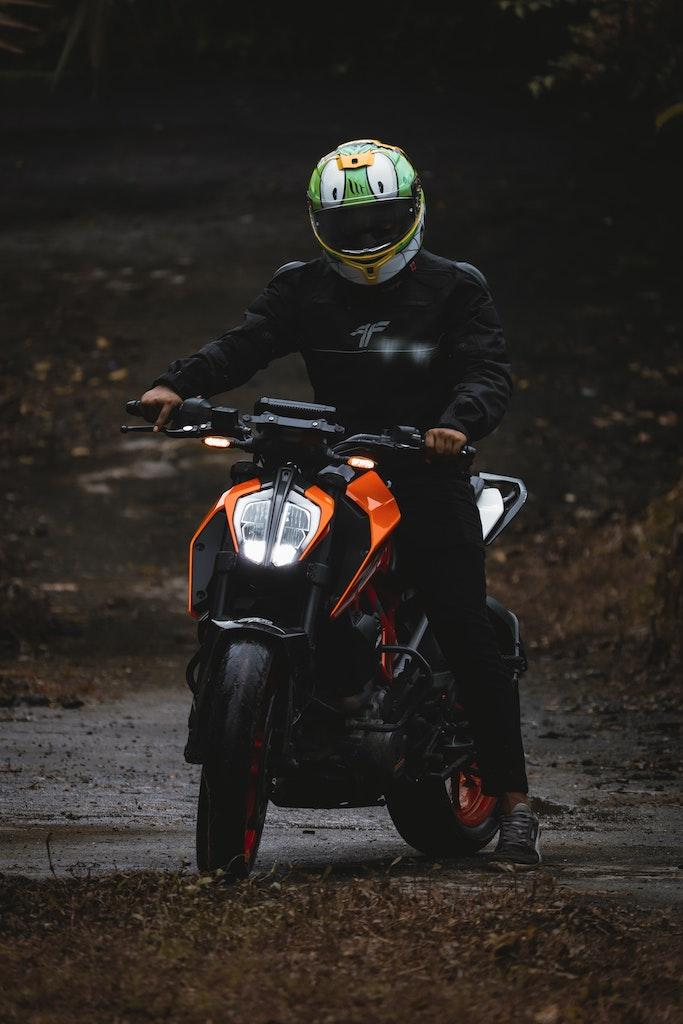helmet: (305, 137, 429, 292)
